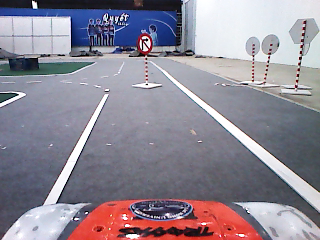ban: (137, 33, 154, 53)
